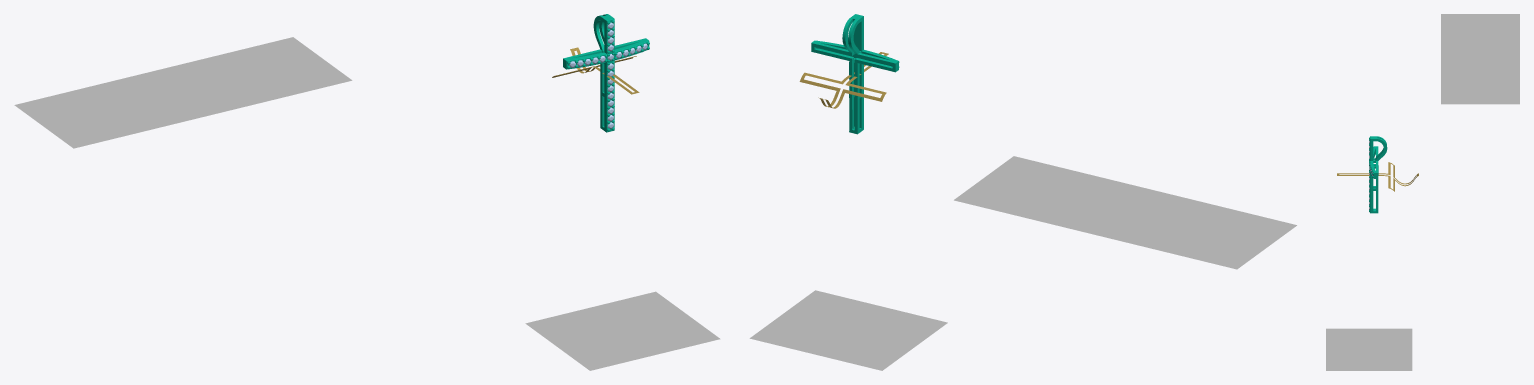
3 views of the same model, side by side, from view 1: azimuth 30°, elevation 25°; view 2: azimuth 150°, elevation 25°; view 3: azimuth 270°, elevation 25° (orthographic). The views are drawn at different scales.
Visible parts, largest first — view 1: VBP117(front).3dm; view 2: VBP117(front).3dm; view 3: VBP117(front).3dm.
Boxes of the visible parts, left/top/right/bottom form: VBP117(front).3dm: left=14, top=14, right=720, bottom=370; VBP117(front).3dm: left=749, top=14, right=1296, bottom=370; VBP117(front).3dm: left=1326, top=14, right=1519, bottom=370.
Size of the model in its own units: 16.32 by 8.73 by 7.36.
